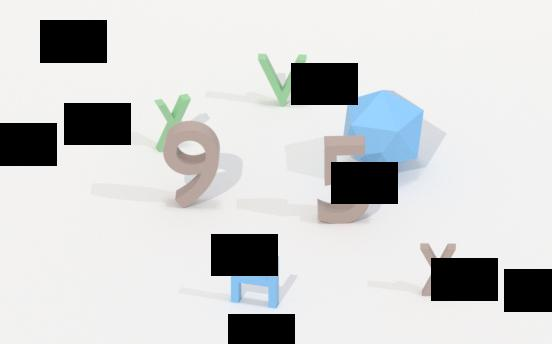5: (314, 132, 373, 229)
9: (162, 118, 220, 209)
H-hoa: (225, 244, 283, 315)
Y: (416, 242, 459, 298), (154, 90, 191, 153)
dagiac: (343, 89, 426, 169)
v: (254, 44, 311, 111)
